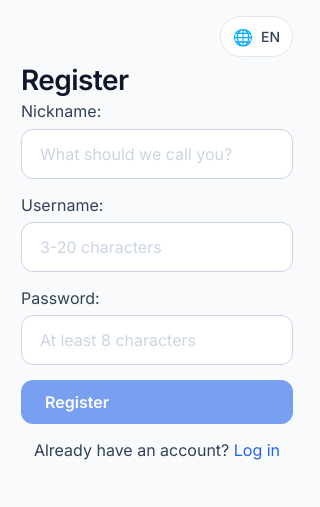
RegisterPage › username format validation › shows error if username does not start with a letter
The image size is (320, 507).
Type "_invalid" into the field labelled "Username:" at (157, 247), box [21,222,293,272]
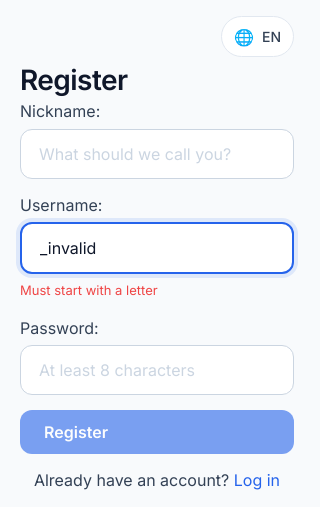
expect the text "Must start with a letter" is shown: met, box [20,282,158,298]
